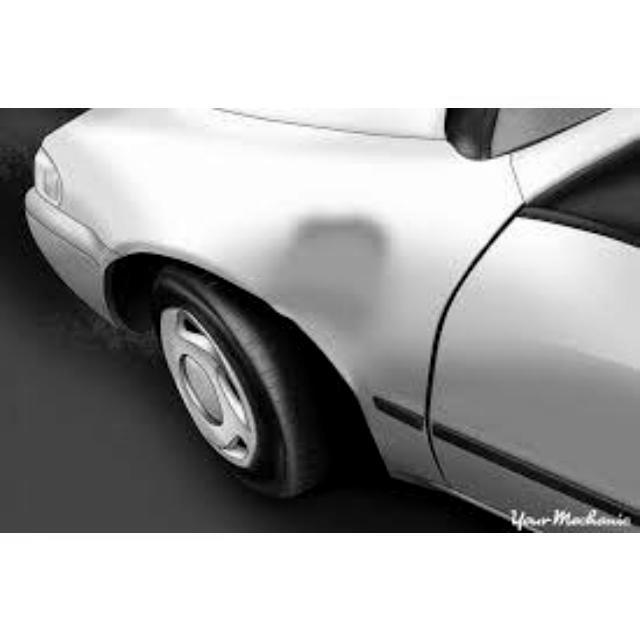fender-dent: (158, 140, 416, 351)
